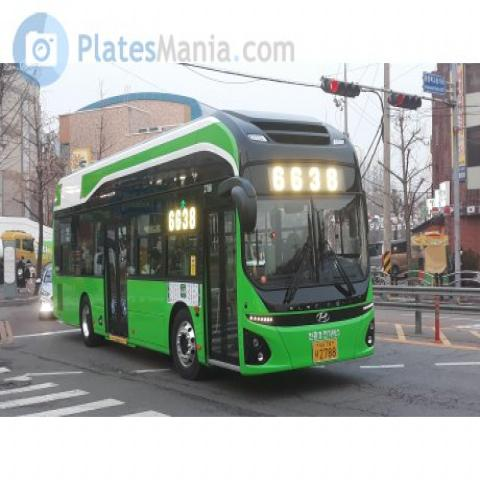LP: (311, 339, 342, 368)
